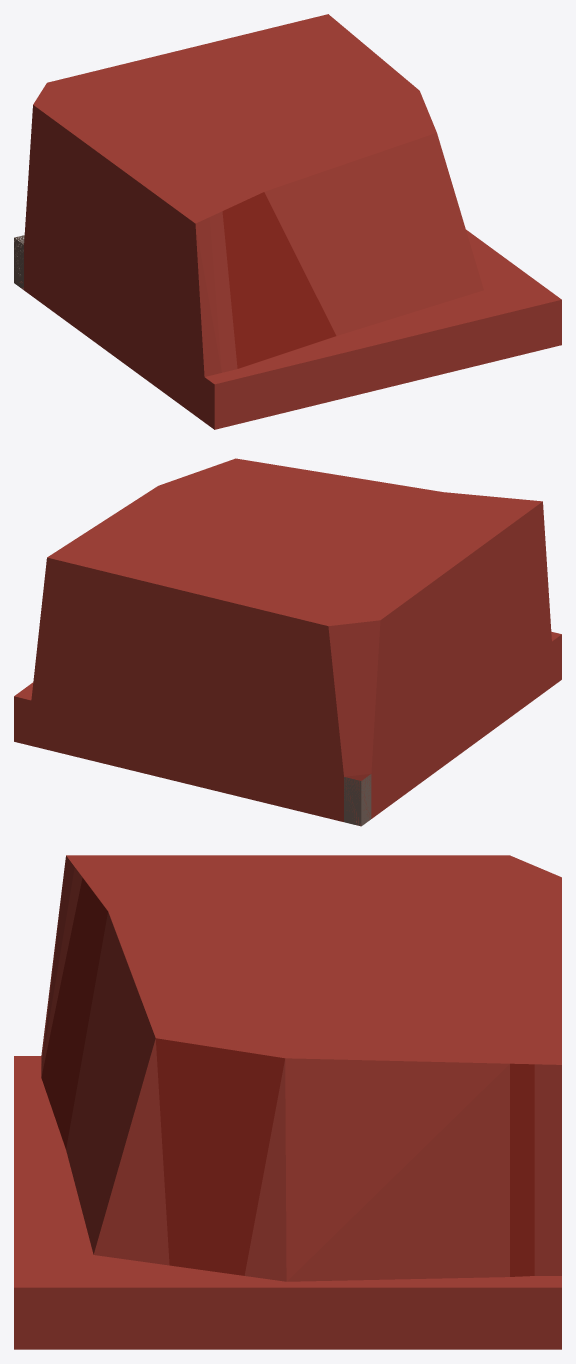
Rendered from Field_12.fbx.
3 views of the same model, one above another, from view 1: azimuth 30°, elevation 25°; view 2: azimuth 150°, elevation 25°; view 3: azimuth 270°, elevation 25° (orthographic). The views are drawn at different scales.
Parts seen in each view (by area): view 1: Plane.013; view 2: Plane.013; view 3: Plane.013.
Part boxes in pixels (box(x1,y1,x2,y2)): Plane.013: box(14, 14, 561, 429); Plane.013: box(14, 458, 561, 826); Plane.013: box(14, 855, 561, 1349).
Bounding box in the file's own units: 400 × 212 × 400.
